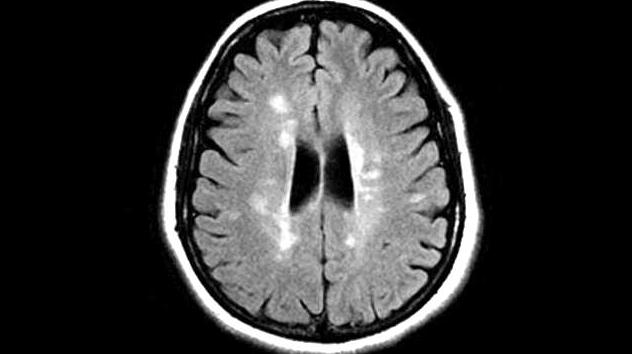Normal_Brain: (94, 24, 495, 354)
